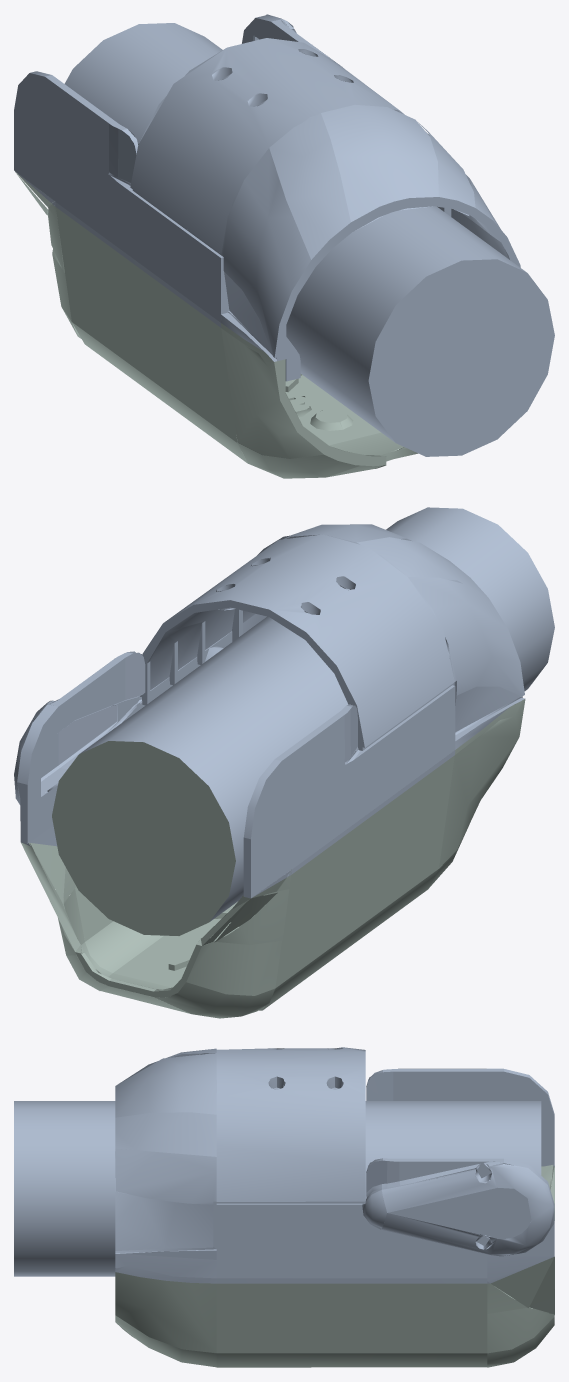
Rendered from icub_r_upper_arm.glb.
3 views of the same model, one above another, from view 1: azimuth 30°, elevation 25°; view 2: azimuth 150°, elevation 25°; view 3: azimuth 270°, elevation 25° (orthographic). The views are drawn at different scales.
Visible parts, largest first — view 1: r_upperarm_mesh, r_arm_cyl_mesh; view 2: r_upperarm_mesh, r_arm_cyl_mesh; view 3: r_upperarm_mesh, r_arm_cyl_mesh.
Boxes of the visible parts, bbox=[...] form: r_upperarm_mesh: bbox=[14, 14, 520, 478]; r_arm_cyl_mesh: bbox=[64, 23, 554, 456]; r_upperarm_mesh: bbox=[14, 524, 525, 1018]; r_arm_cyl_mesh: bbox=[52, 507, 554, 935]; r_upperarm_mesh: bbox=[115, 1047, 554, 1367]; r_arm_cyl_mesh: bbox=[14, 1101, 541, 1276].
Size of the model in its own units: 0.0716 by 0.0916 by 0.1601.
